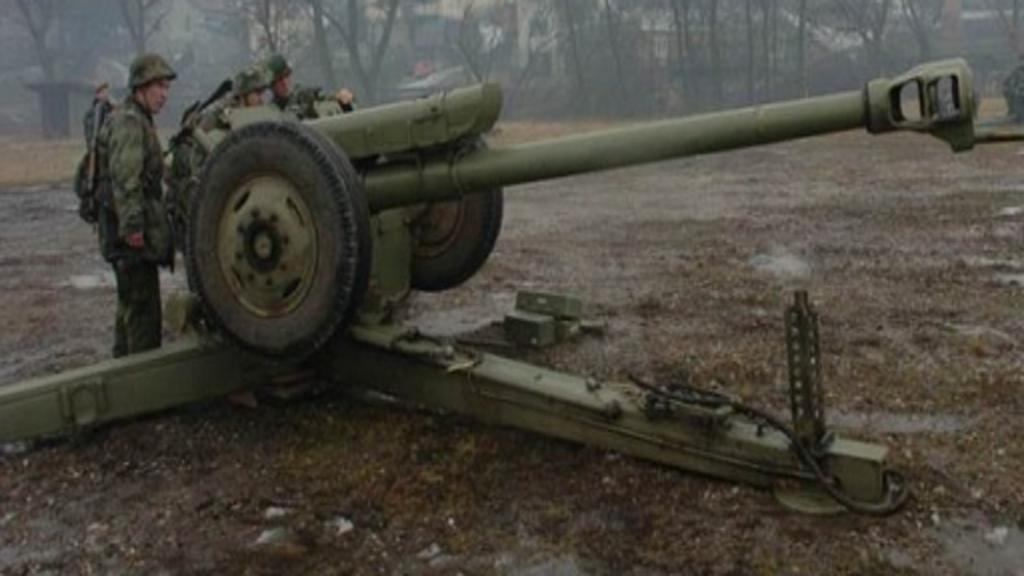ART: (0, 50, 980, 512)
